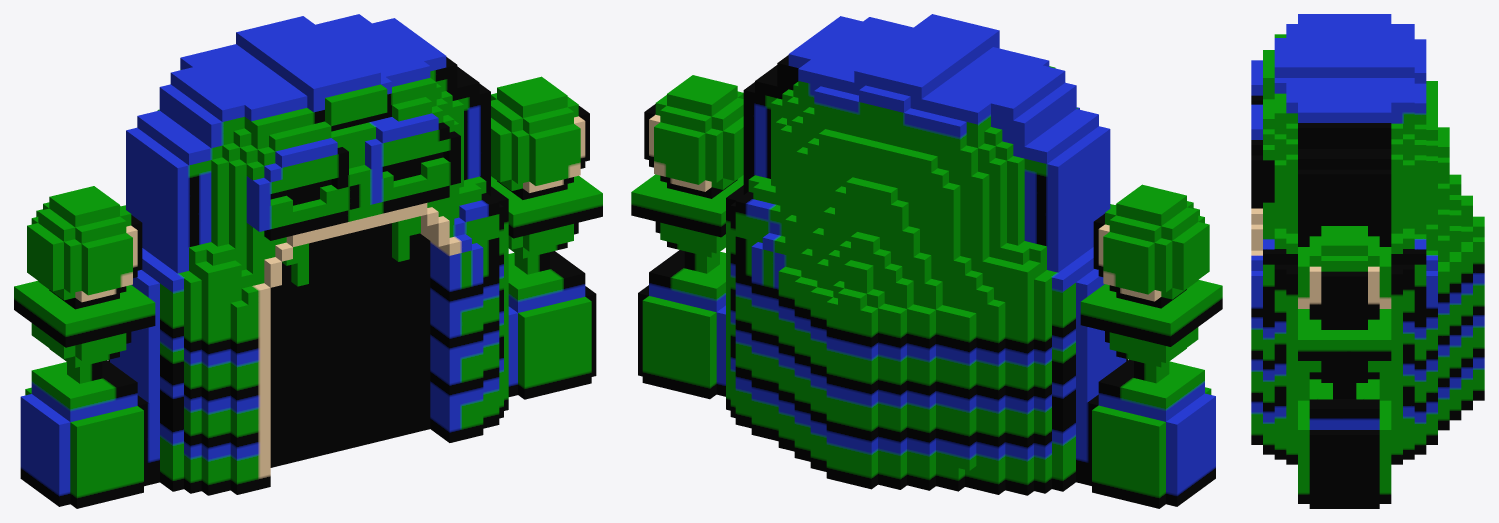
File: TempleEntranceTwoEyeGreen.obj
3 renders of one model, left to right at view 1: azimuth 30°, elevation 25°; view 2: azimuth 150°, elevation 25°; view 3: azimuth 270°, elevation 25°, orthographic. The views are drawn at different scales.
Visible parts, largest first — view 1: Matrix; view 2: Matrix; view 3: Matrix.
Boxes of the visible parts, <box> form: Matrix: <box>14,14,602,508</box>; Matrix: <box>631,14,1222,508</box>; Matrix: <box>1251,14,1484,508</box>.
Size of the model in its own units: 4.8 by 3.2 by 2.
Materials: 1 (1 with a texture image).
